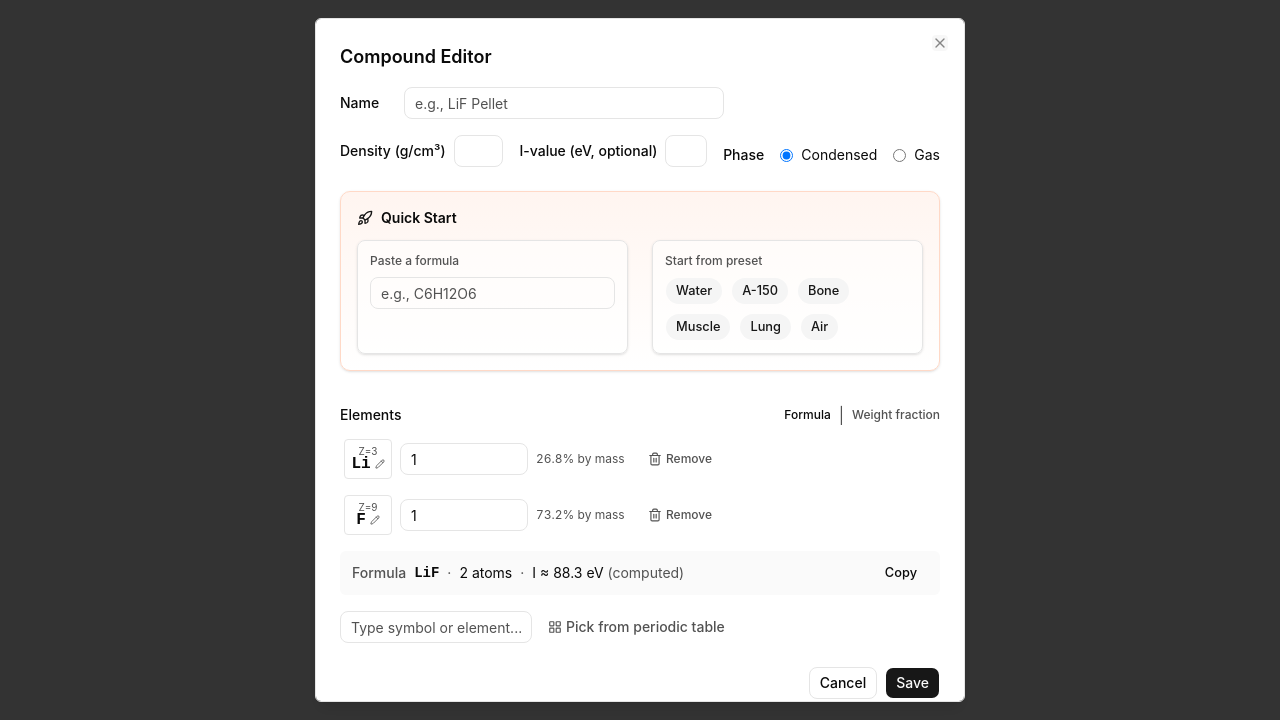
Test: CompoundEditorModal — Save gating & derived UI › blocks Save and shows the banner when an element appears twice
Type "Duplicate" into the field labelled "Name".
click(564, 103); type("Duplicate")  # box [404,87,724,119]
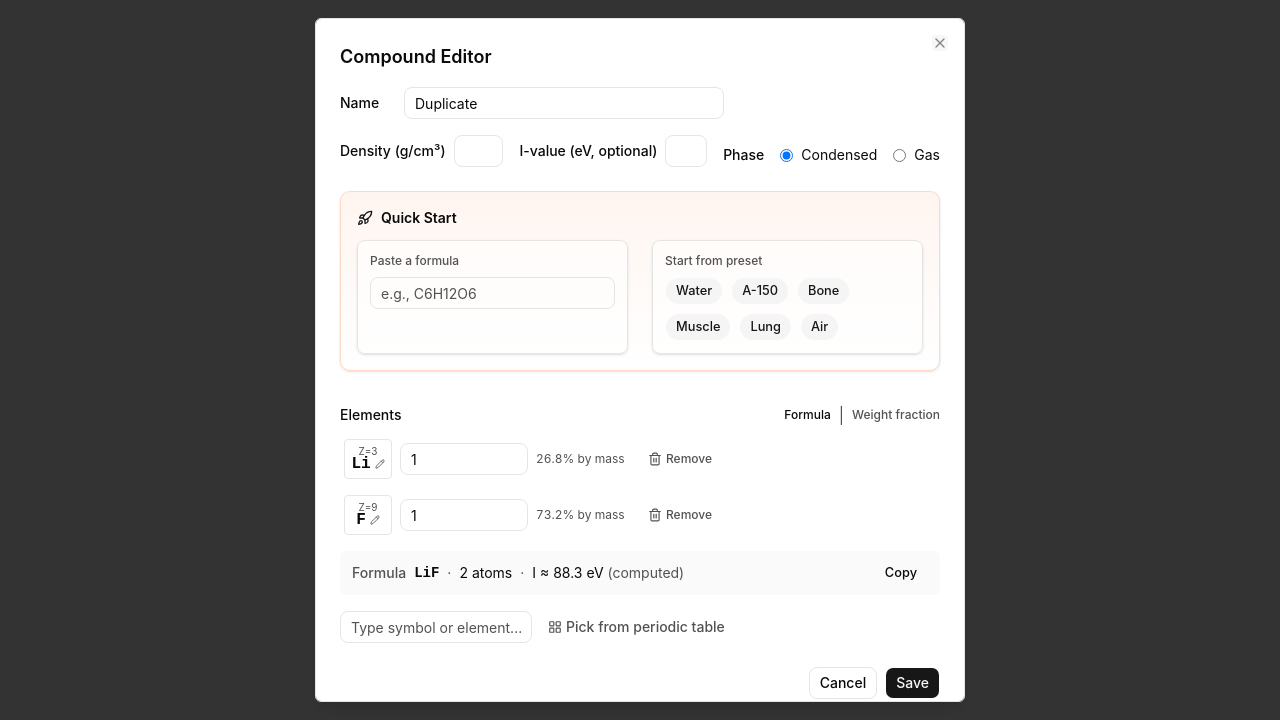
Type "1.0" into the number field labelled "Density (g/cm³)".
click(479, 151); type("1.0")  # box [454,135,504,167]
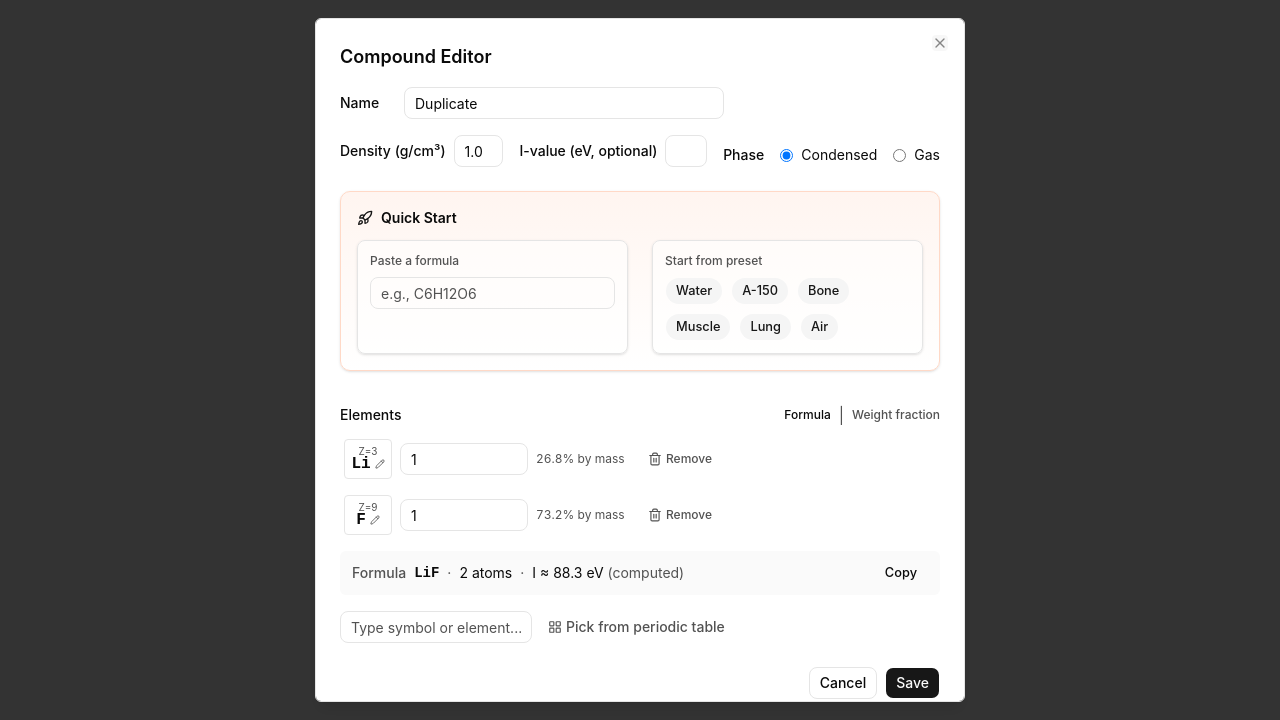
Type "Li" into the field with placeholder "Type symbol or element...".
click(436, 627); type("Li")  # box [340,611,532,643]
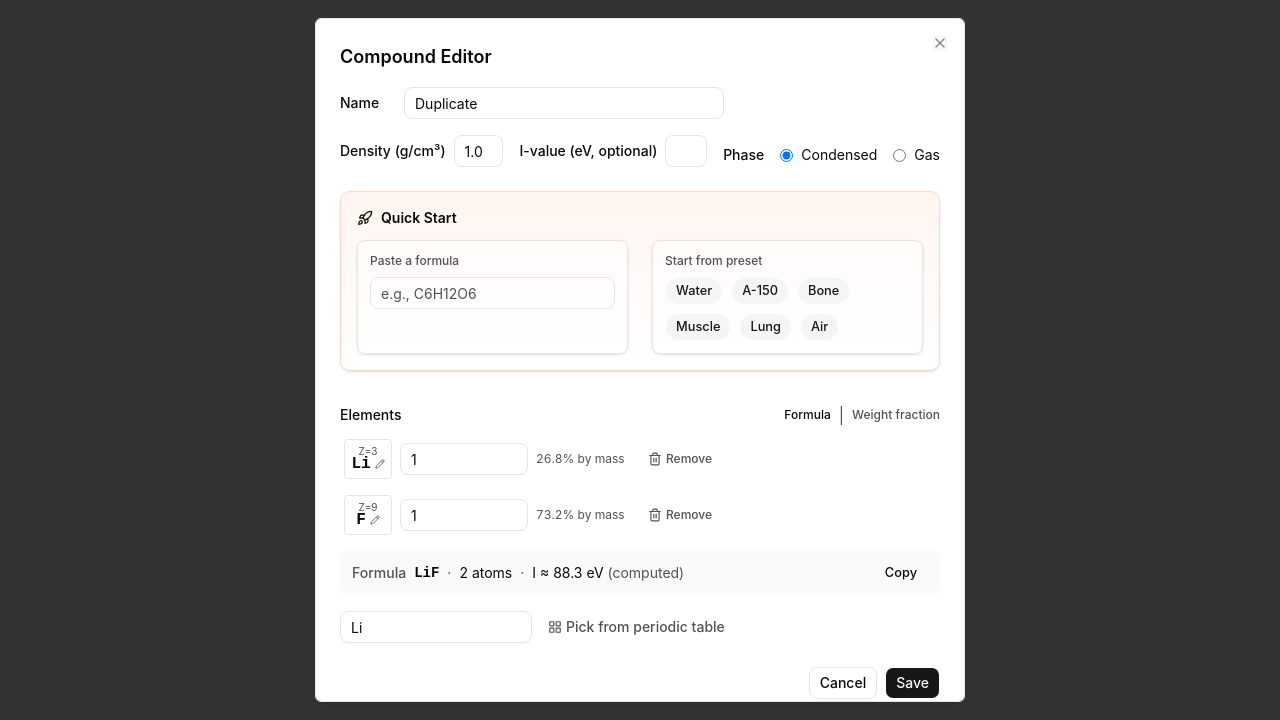
Press Enter in the field with placeholder "Type symbol or element...", box [340,611,532,643]
(page scrolled)
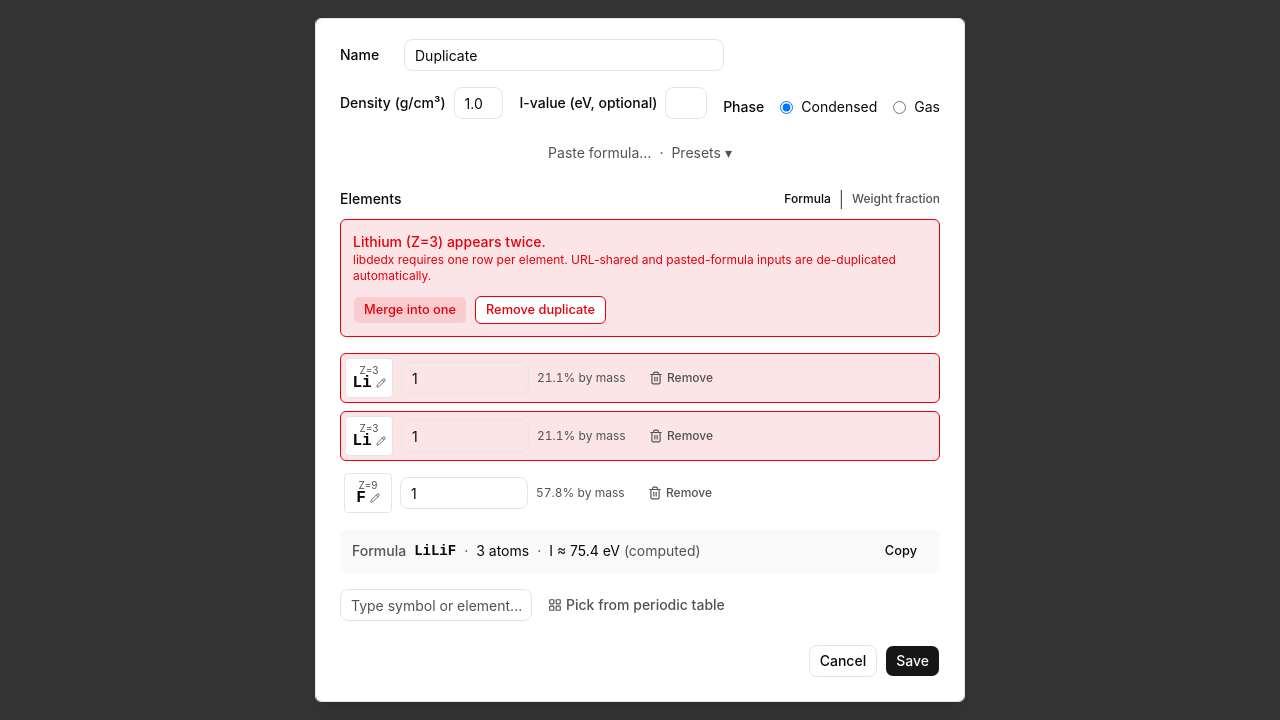
Result: the text "Lithium (Z=3) appears twice." is shown at [353,233,546,250]
Click the button "Save".
click(913, 661)  # box [885,645,940,677]
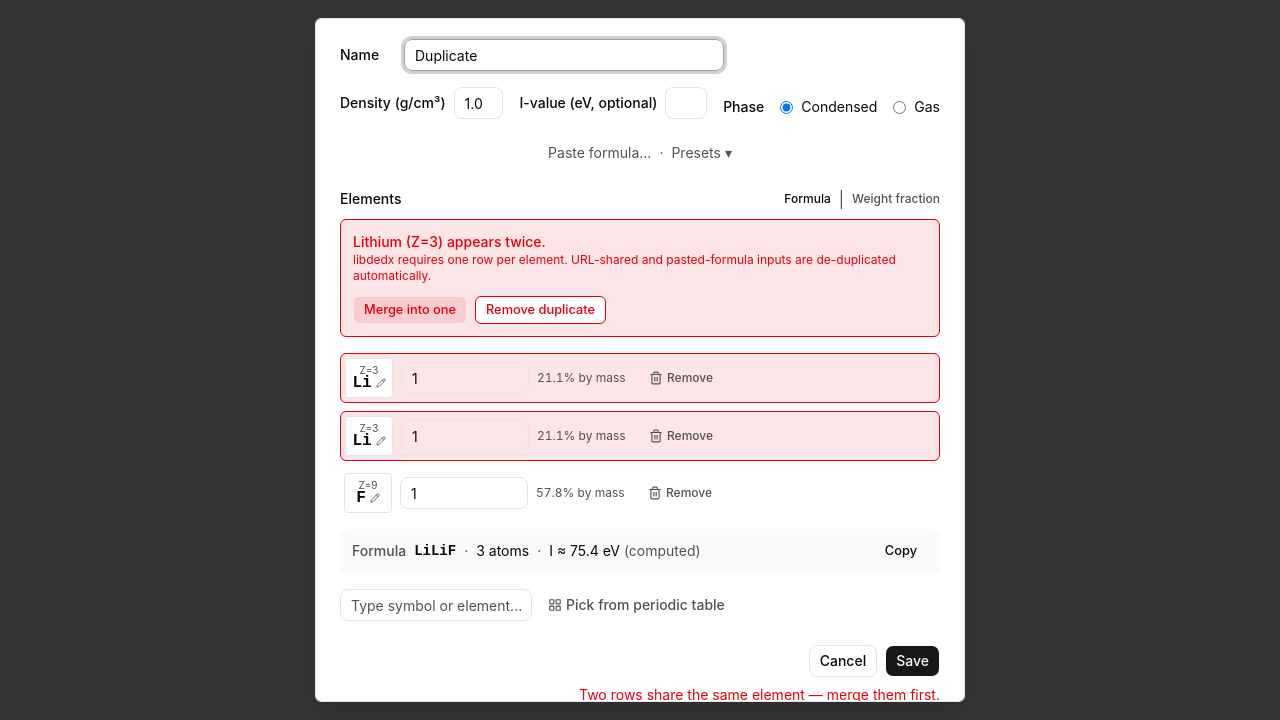
Result: the message with test id "compound-save-block-reason" shows "merge them first" at [579,686,940,702]
